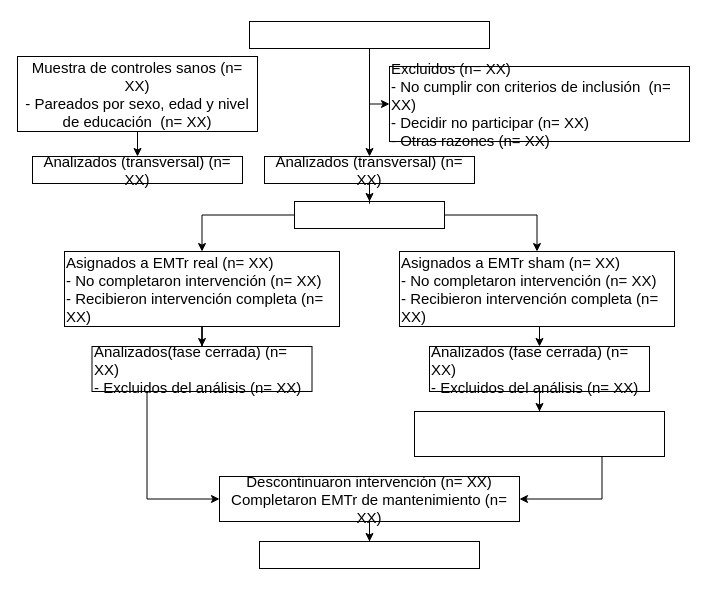
This 707x590 diagram has some shape labels left out. The centre of each missing label's shape, as x and y in pixels:
"Aleatorizados (n= XX)" belongs at (369,214).
"Analizados (fase abierta) (n= XX)" belongs at (369,554).
"Descontinuaron intervención (n= XX) Completaron EMTr real (n= XX)" belongs at (539,433).
"Evaluados para elegibilidad (n= XXX)" belongs at (369,34).
